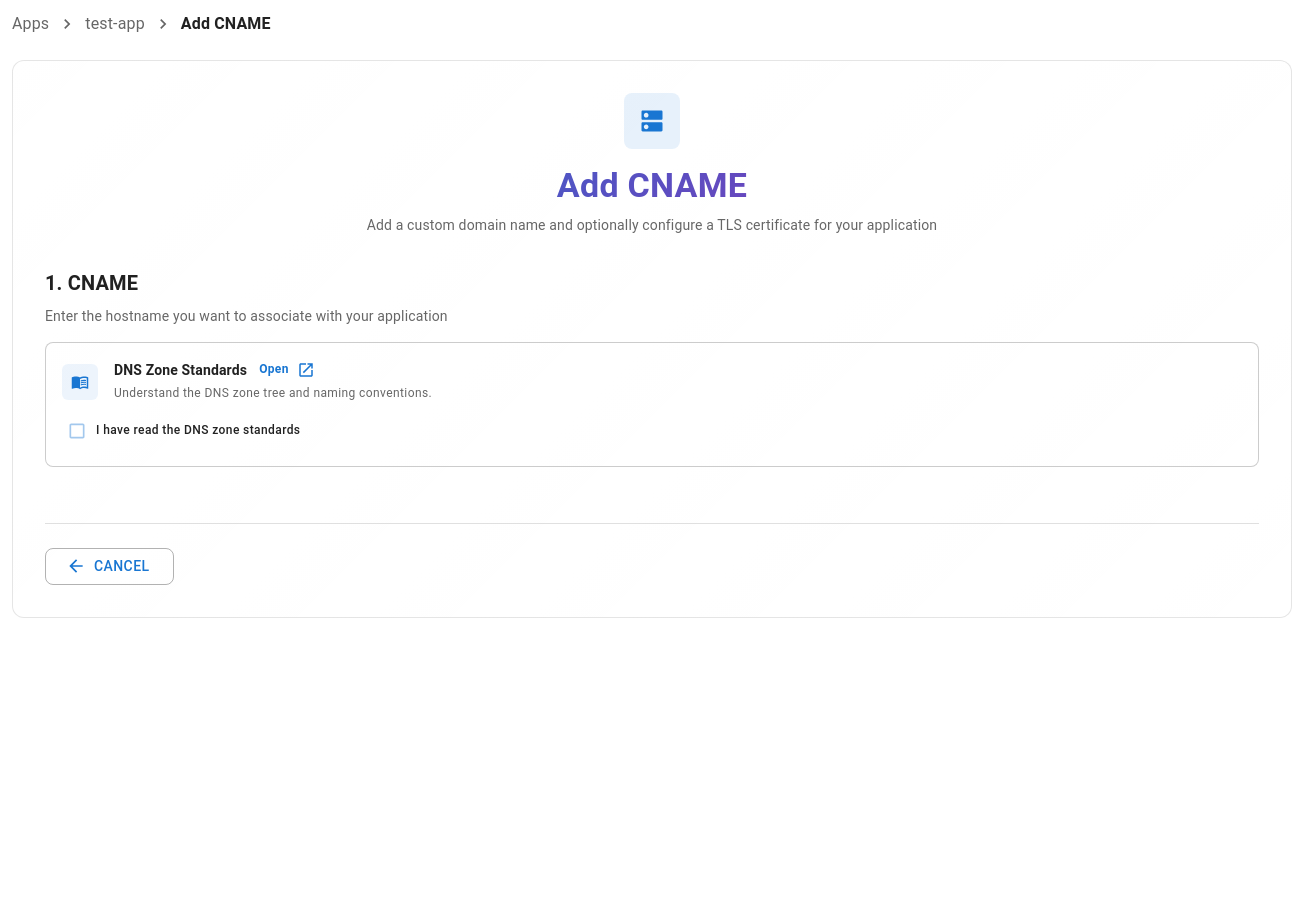
Test case: AppCNameAddView › shows hostname input after acknowledging DNS docs
Click the checkbox labelled "I have read the DNS zone standards" at (184, 431), box [67,421,300,441]
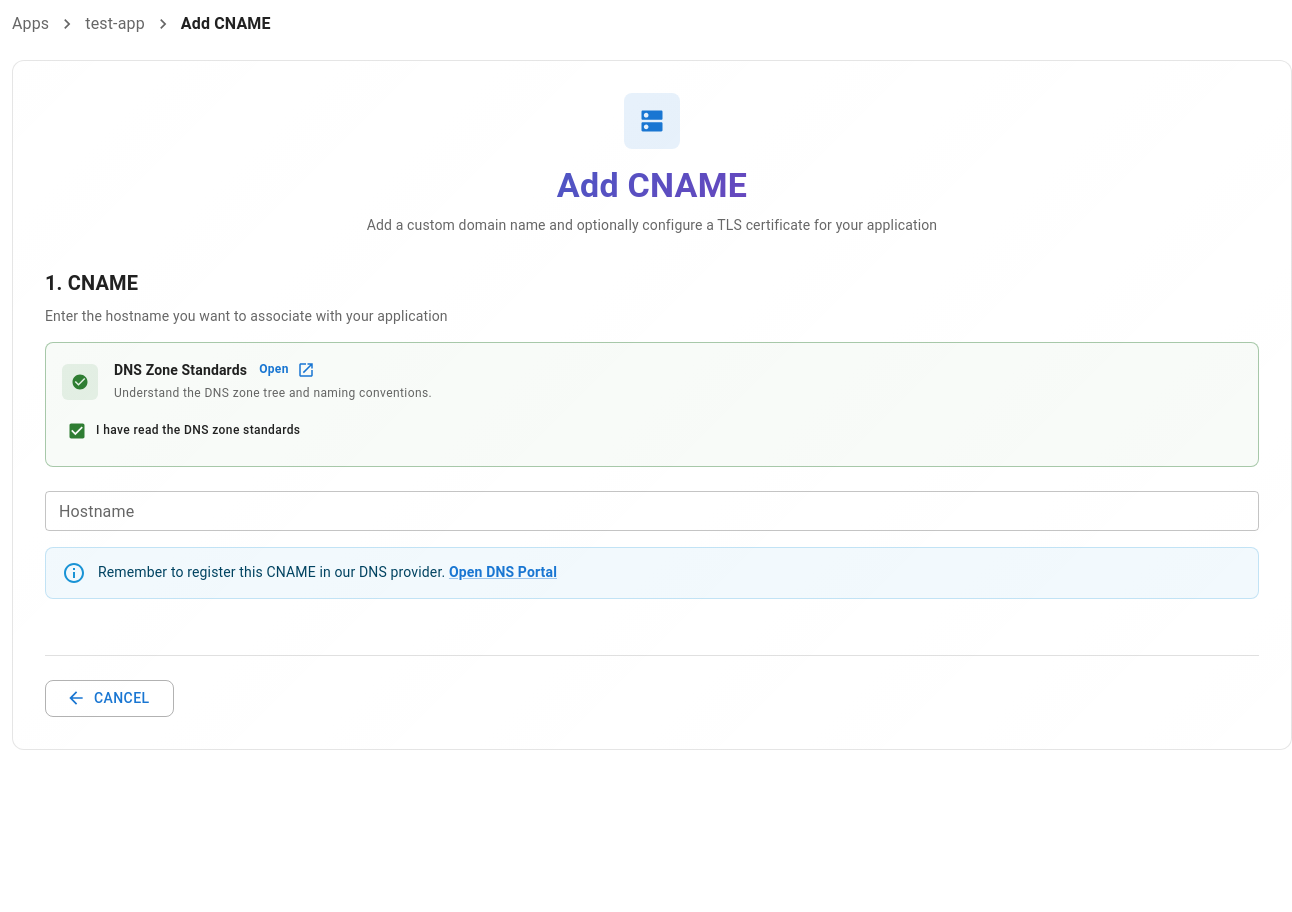
Check: the field labelled "Hostname" is shown, box [45,491,1259,531]
Check: the link "Open DNS Portal" is shown, box [449,564,557,580]
